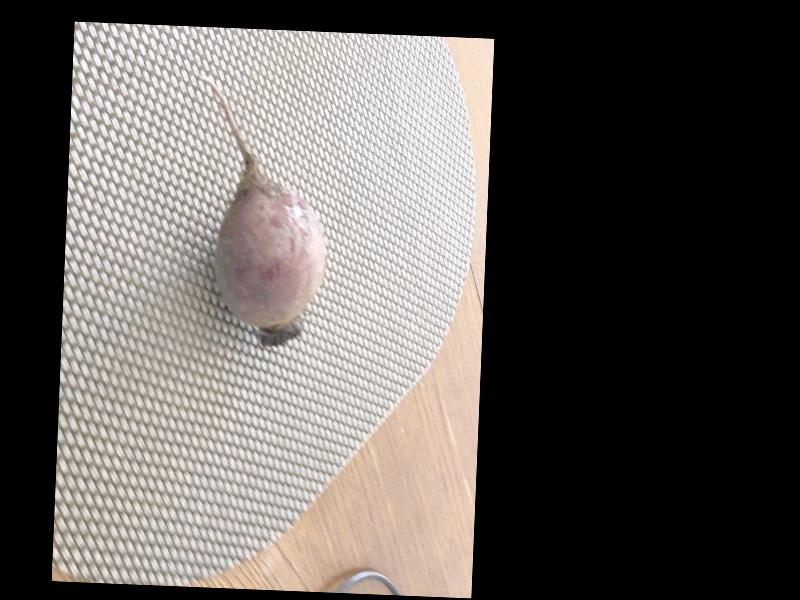Beet: (187, 75, 332, 350)
